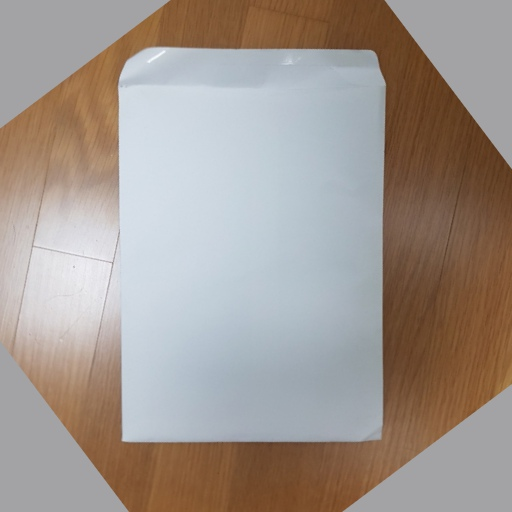Paper_2: (113, 42, 394, 458)
